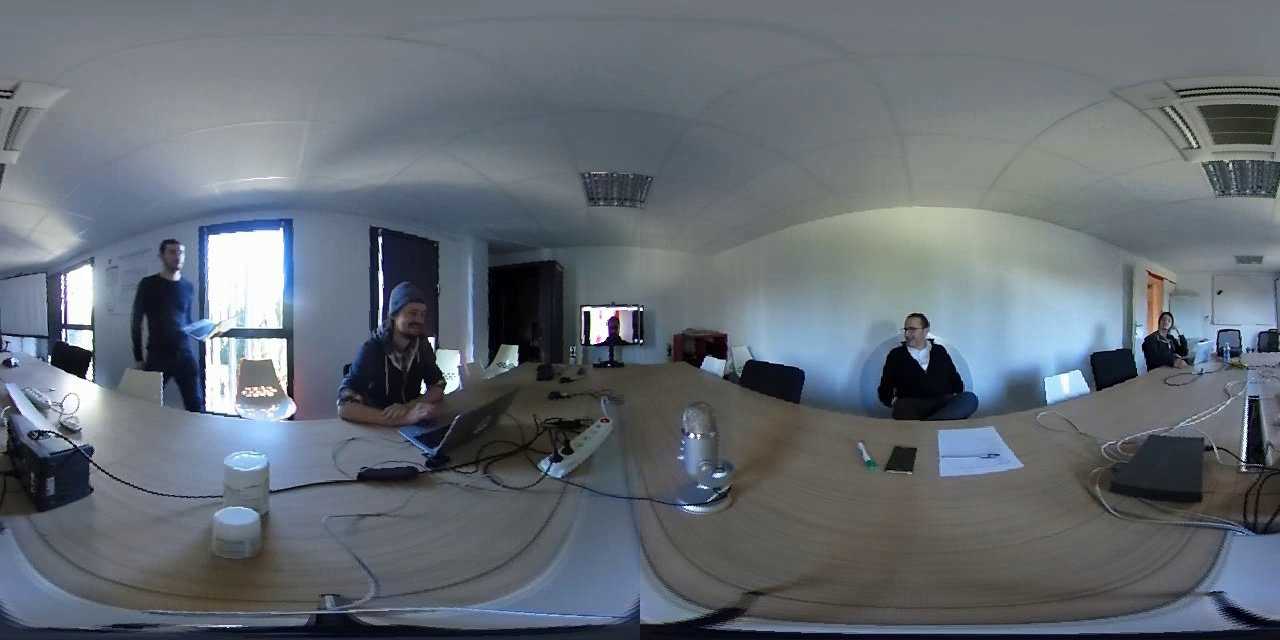person: (340, 274, 455, 425), (128, 232, 229, 377), (873, 309, 976, 418), (1147, 307, 1186, 368), (583, 307, 640, 341)
